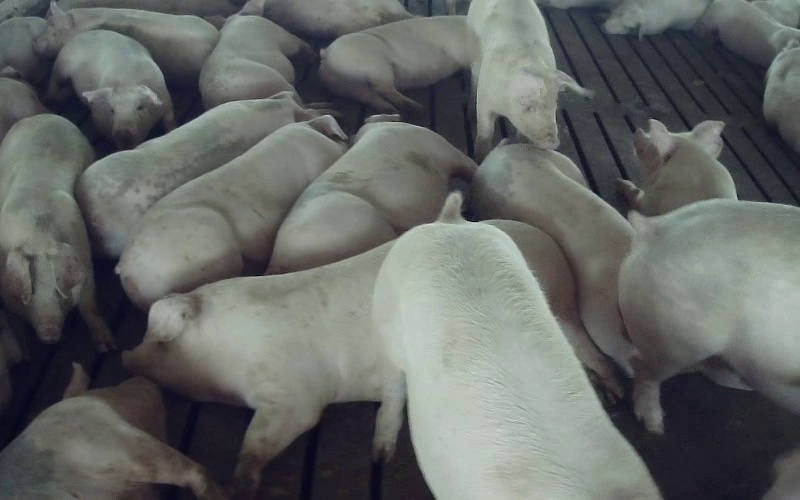pig: (373, 195, 658, 499), (123, 244, 389, 496), (117, 115, 346, 309), (619, 199, 799, 431), (472, 144, 635, 374), (267, 115, 475, 273), (0, 114, 112, 350), (467, 0, 588, 157), (35, 3, 218, 85), (48, 30, 173, 148), (320, 16, 469, 112), (618, 119, 736, 215), (699, 0, 799, 66), (263, 0, 411, 39), (763, 47, 799, 153), (603, 0, 709, 36)
